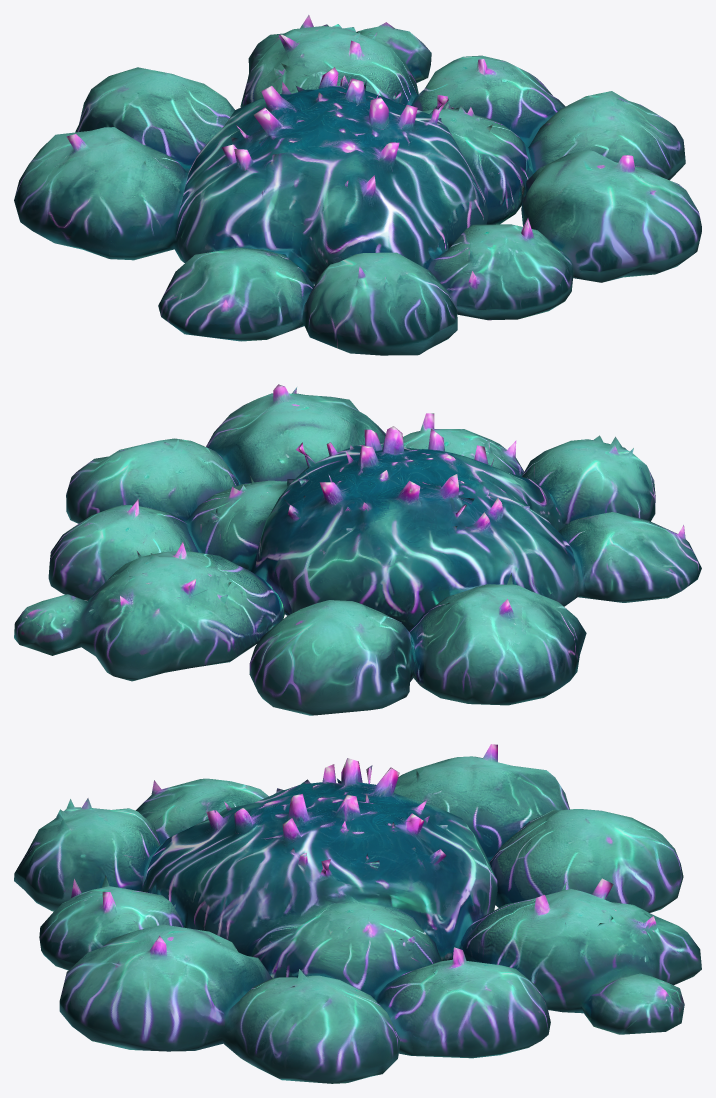
3 renders of one model, top to bottom at view 1: azimuth 30°, elevation 25°; view 2: azimuth 150°, elevation 25°; view 3: azimuth 270°, elevation 25°, orthographic. The views are drawn at different scales.
Parts seen in each view (by area): view 1: Mesh_0; view 2: Mesh_0; view 3: Mesh_0.
Boxes of the visible parts, bbox=[...] form: Mesh_0: bbox=[14, 15, 701, 355]; Mesh_0: bbox=[14, 384, 701, 715]; Mesh_0: bbox=[14, 744, 701, 1083].
Bounding box in the file's own units: 1.89 × 0.4235 × 1.91.
Materials: 1 (1 with a texture image).
